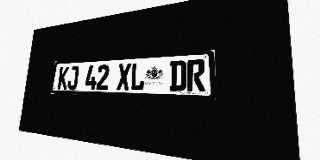2: (96, 64, 110, 90)
4: (85, 65, 98, 90)
D: (169, 60, 187, 91)
J: (67, 66, 79, 89)
K: (57, 66, 69, 89)
L: (130, 62, 145, 91)
R: (187, 59, 205, 91)
X: (117, 63, 131, 90)
